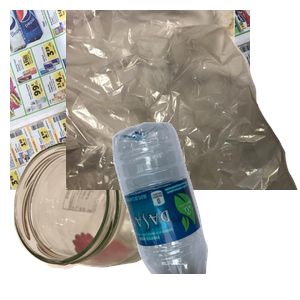glass: (11, 139, 179, 300)
paper: (10, 10, 250, 190)
plastic: (110, 120, 300, 300)
trash: (66, 10, 300, 190)
